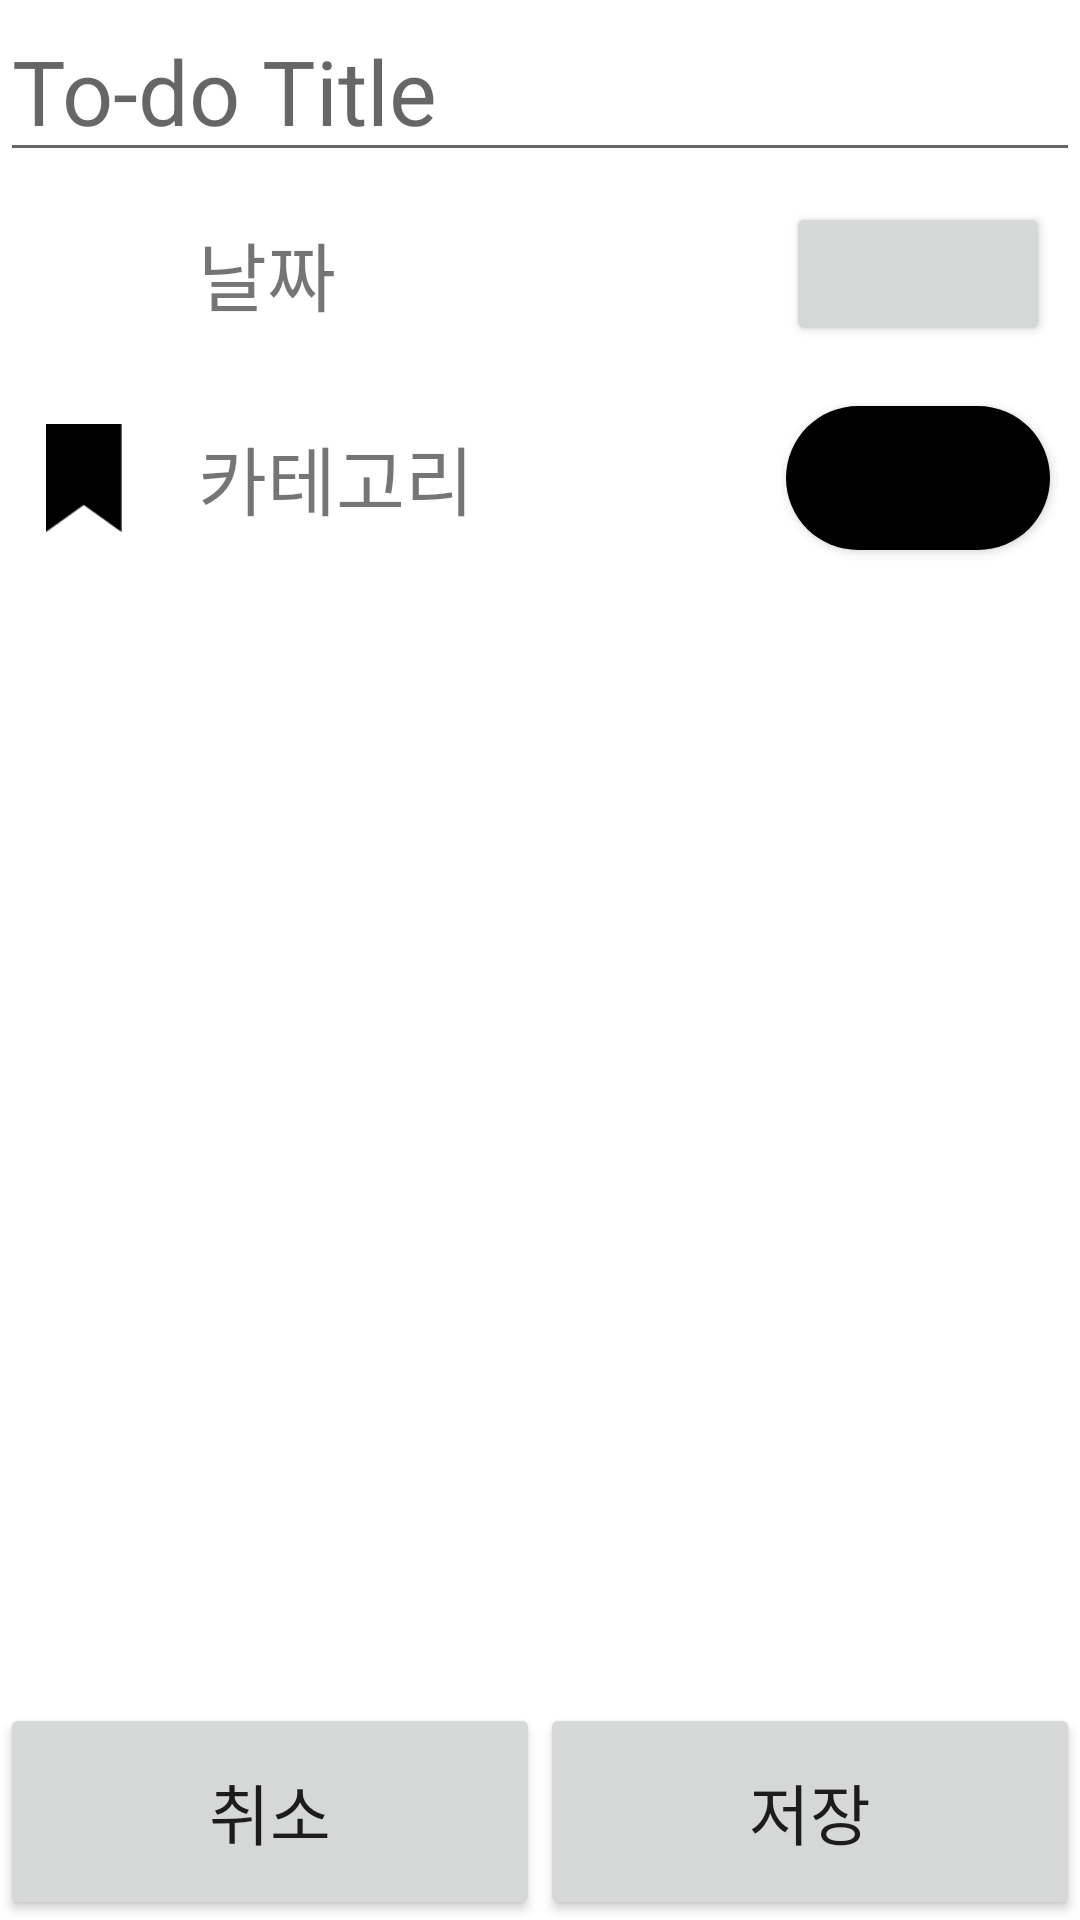

Point at icon controls on the screen. Image size 1080*1920, points as point (x, y).
bookmark: point (84, 478)
